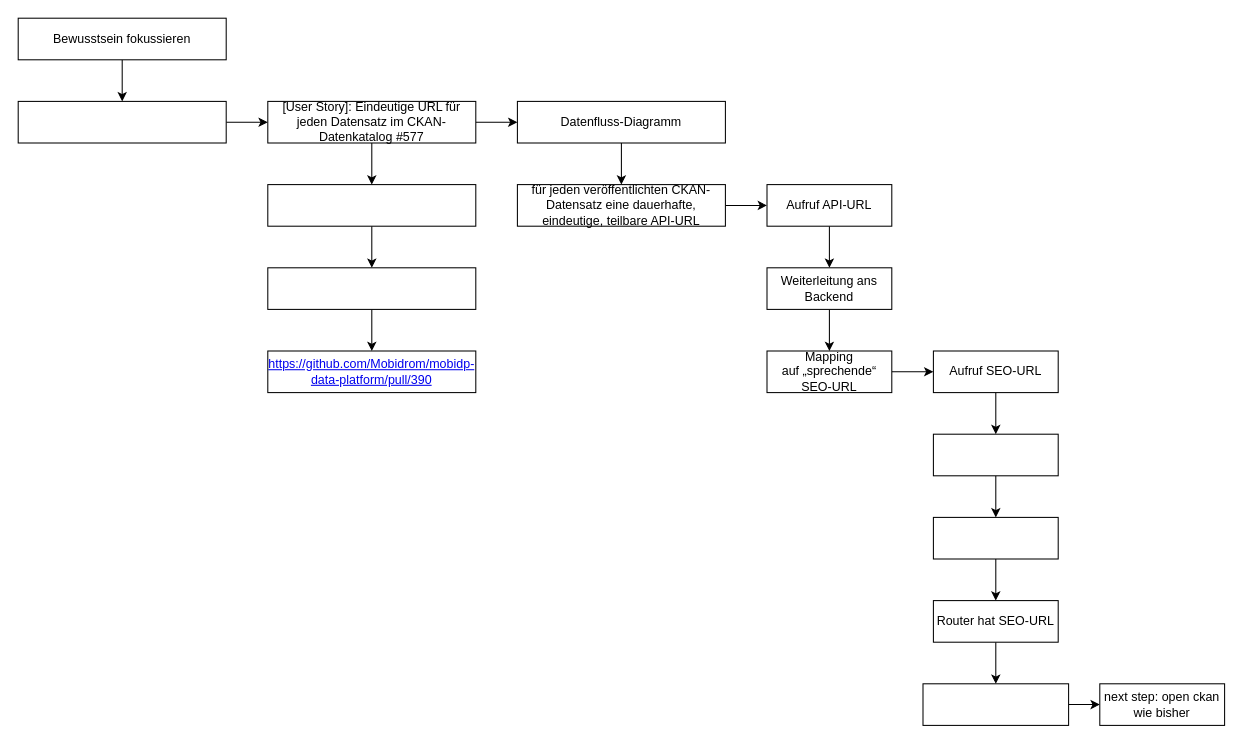
The diagram is 1243 pixels wide and 745 high, and some of its shapes have lost their labels. Here are the shapes that lost their labels. From the top down, the centre of each, then its label:
At point (121, 121): "1. zu lösendes Problem".
At point (371, 205): "https://github.com/Mobidrom/mobidp-planning/issues/577".
At point (371, 288): "feature/577 ckan redirect in api gateway#390".
At point (995, 454): "Weiterleitung an Frontend-Service".
At point (995, 537): "MobiDP wird geladen".
At point (995, 704): "App lädt ckan wie gewohnt über iFrame und zeigt Datensatz an".
